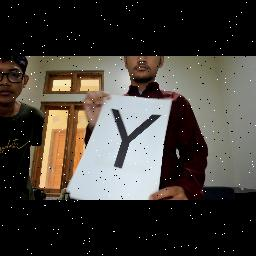y: (100, 106, 160, 170)
